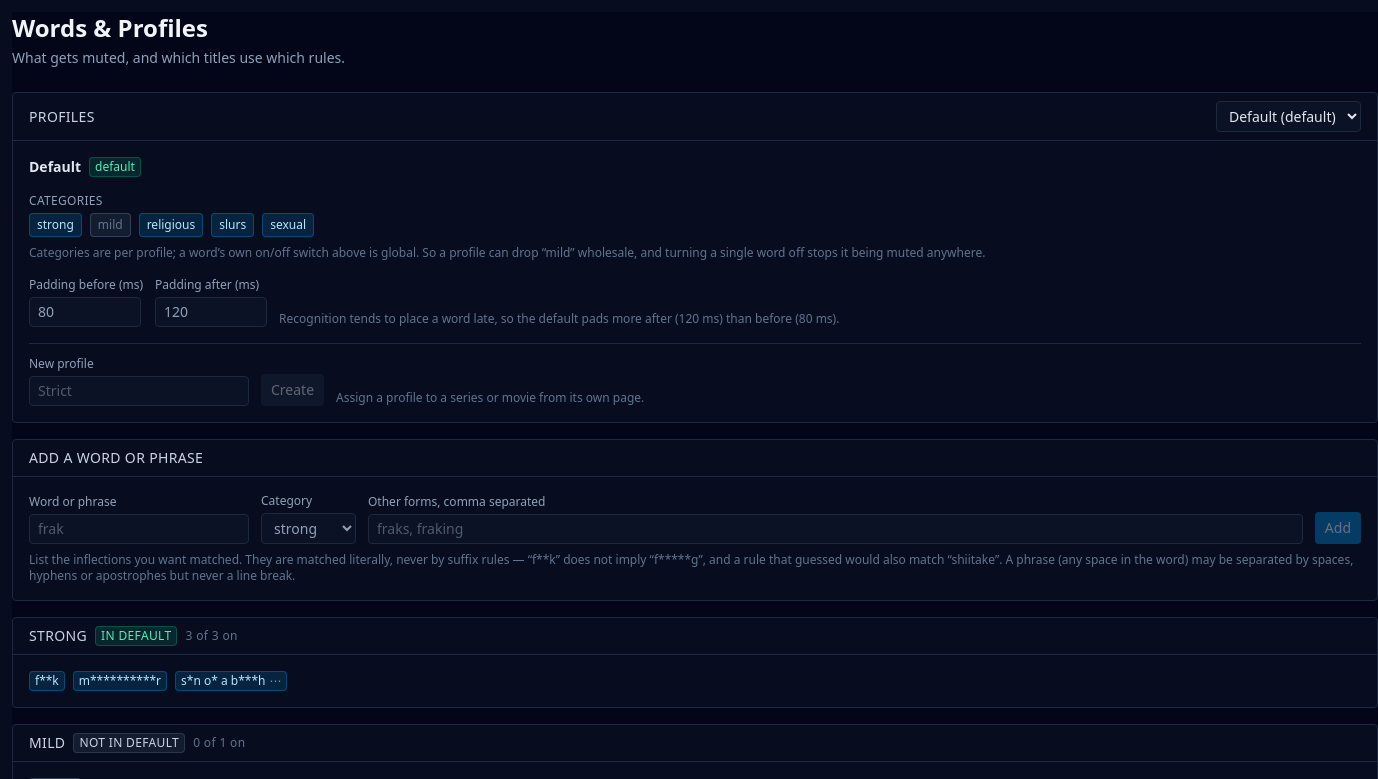
Test case: the profile editor › offers delete and promote for a non-default profile
Select "Strict" in the dropdown named "Profile". click: (1288, 116)
box: [1216,101,1361,132]
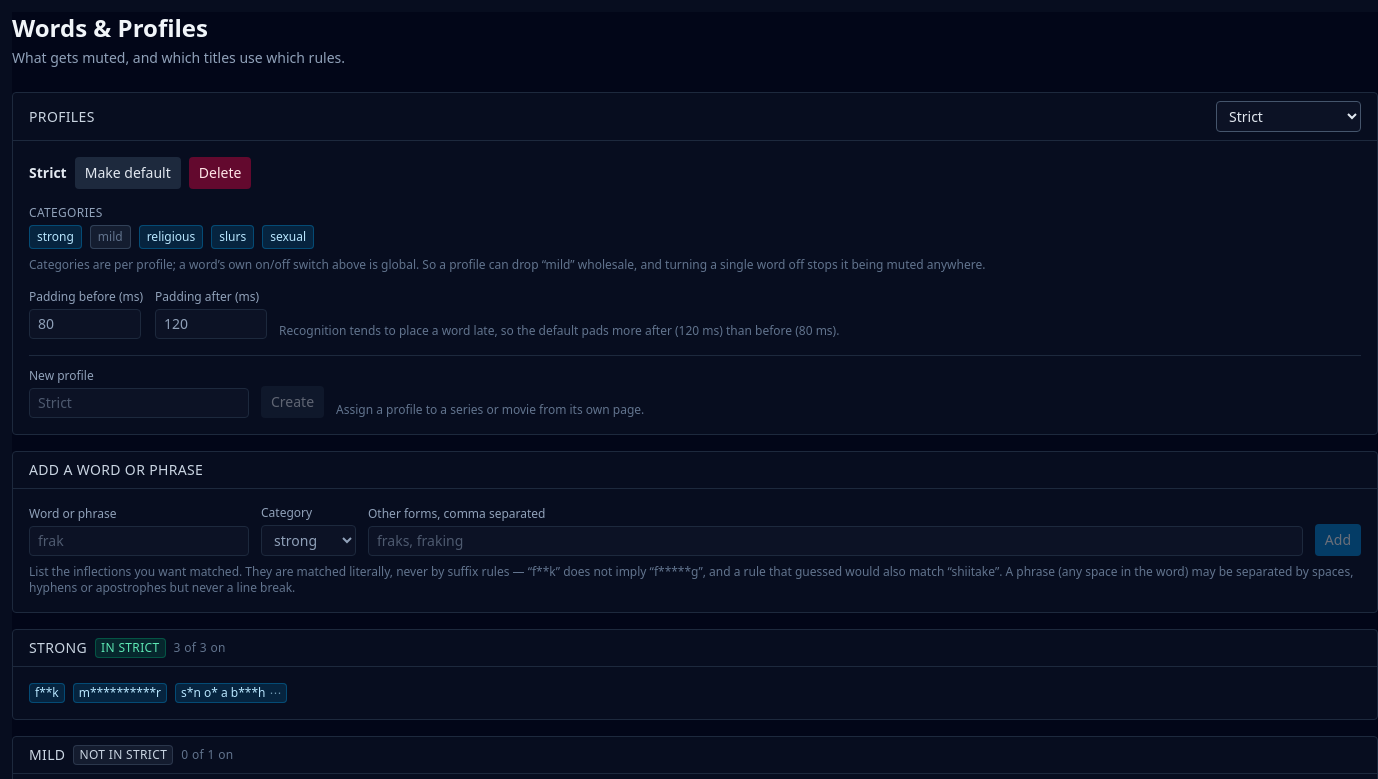
Now the button "Delete" is shown, box [189,157,251,189]
Now the button "Make default" is shown, box [75,157,181,189]
